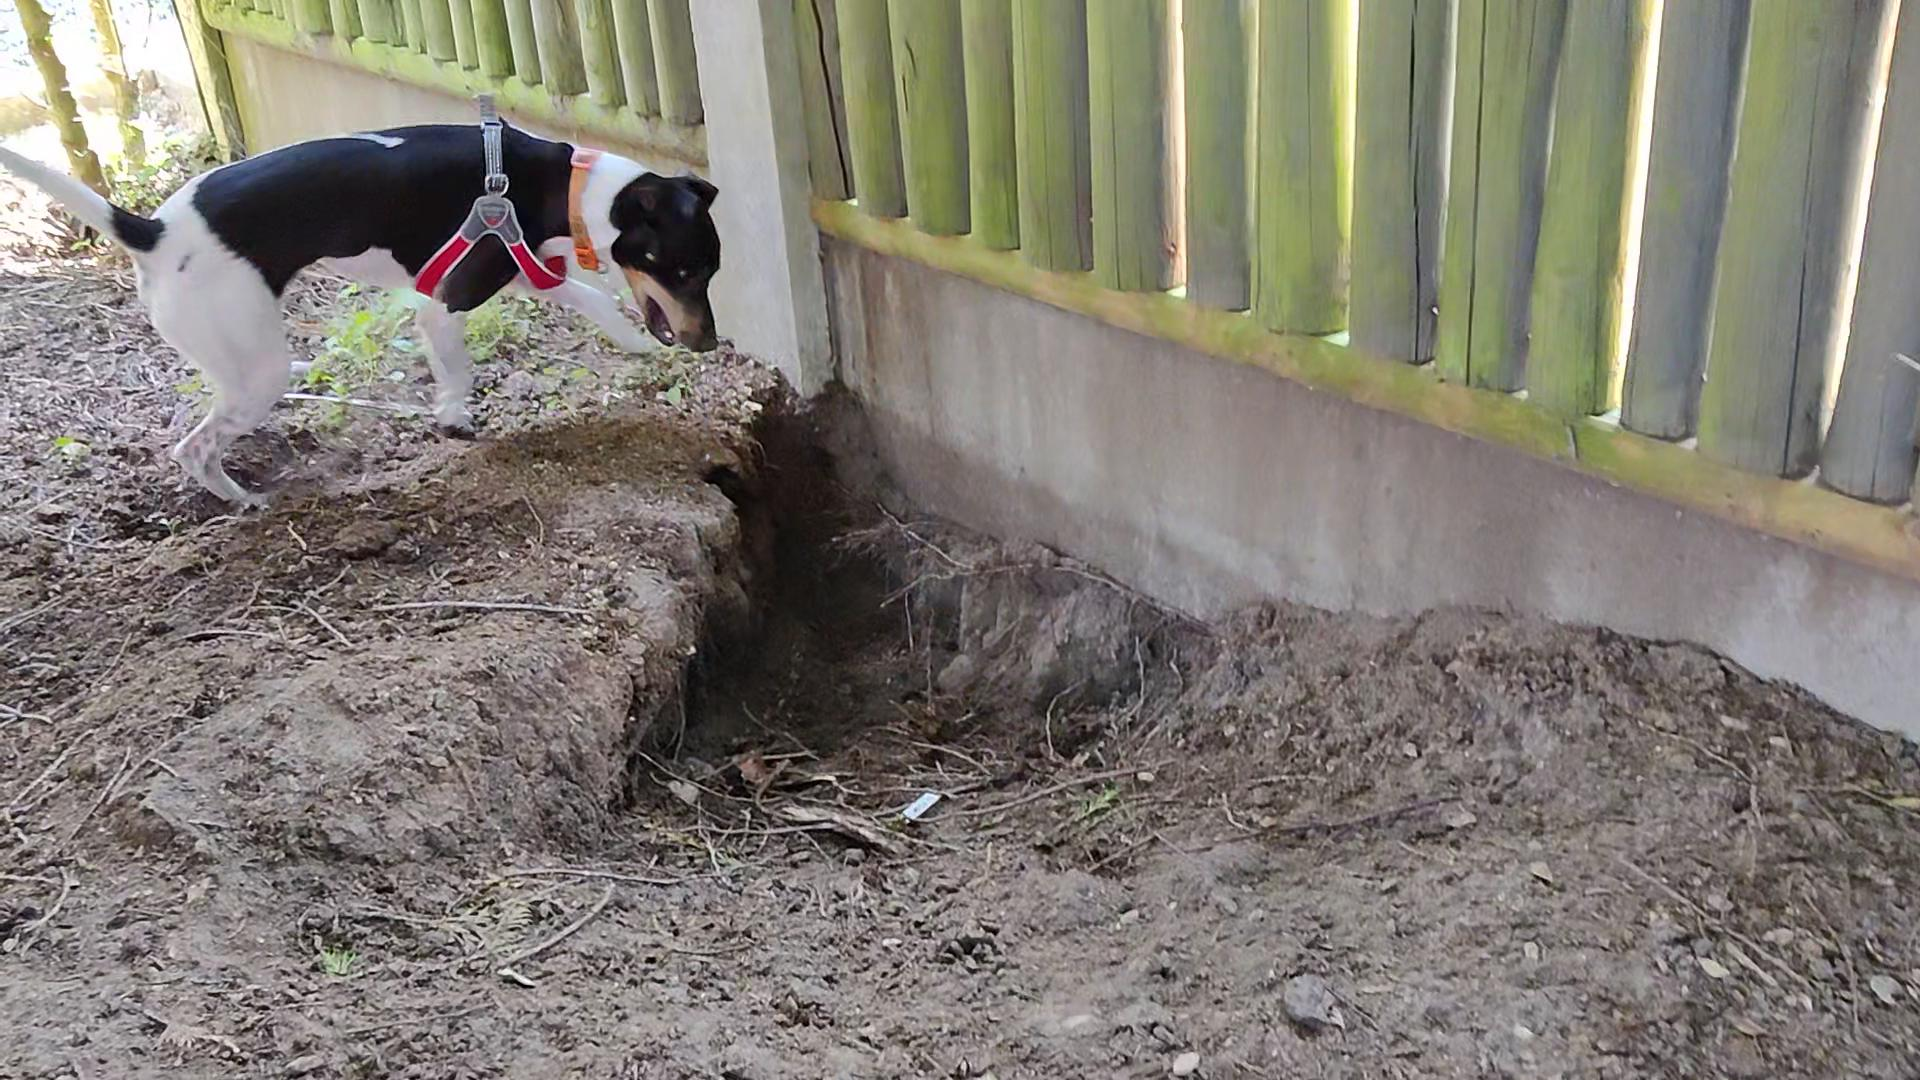Dog: (0, 98, 771, 516)
